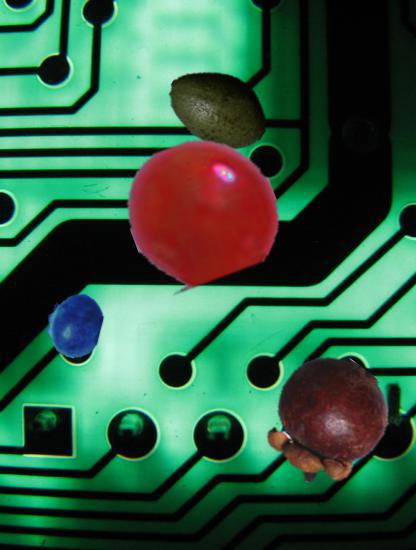Avocado: (166, 55, 271, 160)
Huckleberry: (42, 293, 107, 358)
Mangostan: (264, 356, 391, 483)
Redcurrant: (128, 137, 276, 285)
